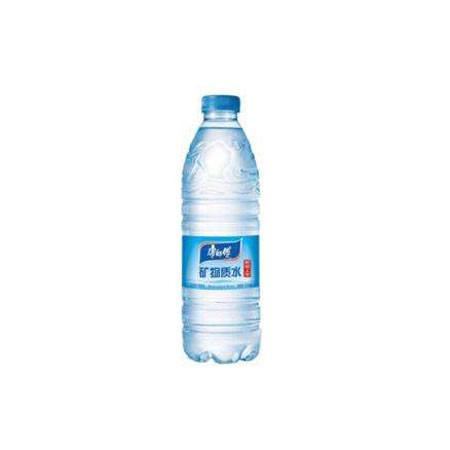amwater: (159, 83, 280, 374)
